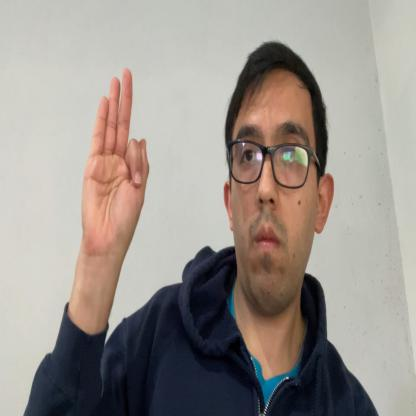F: (80, 68, 150, 262)
